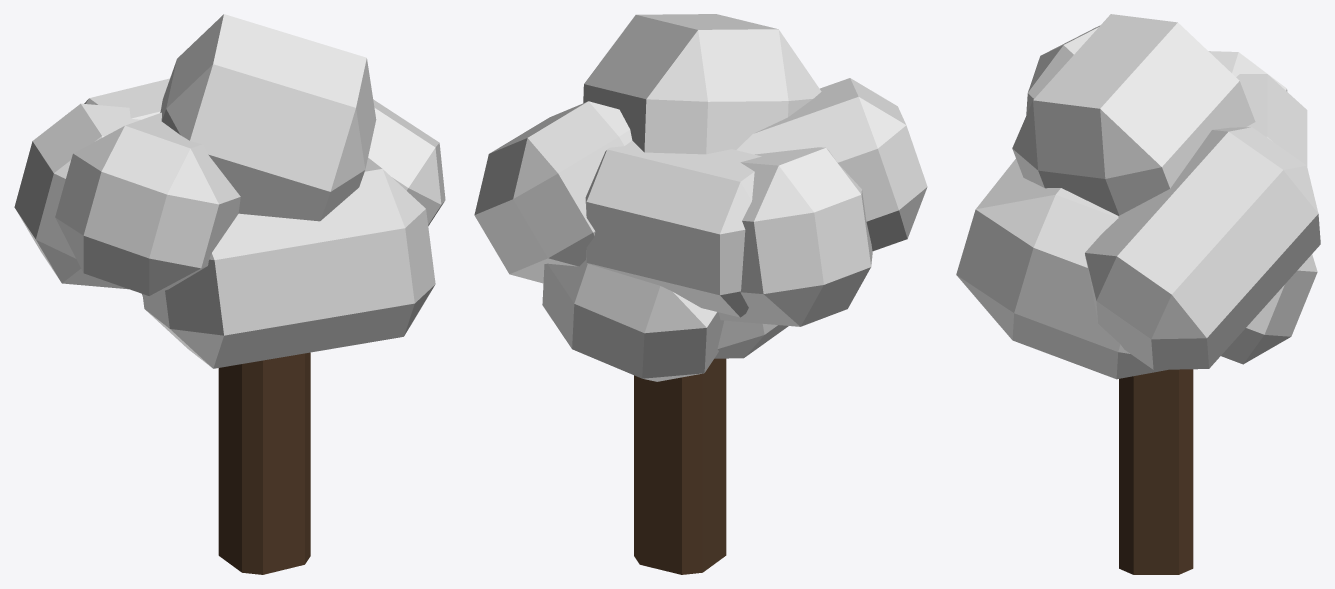
3 renders of one model, left to right at view 1: azimuth 30°, elevation 25°; view 2: azimuth 150°, elevation 25°; view 3: azimuth 270°, elevation 25°, orthographic. The views are drawn at different scales.
Parts seen in each view (by area): view 1: Cube; view 2: Cube; view 3: Cube.
Part boxes in pixels (<box>): Cube: <box>14,14,445,574</box>; Cube: <box>474,14,927,574</box>; Cube: <box>956,14,1320,574</box>.
Bounding box in the file's own units: 751 × 981 × 618.
